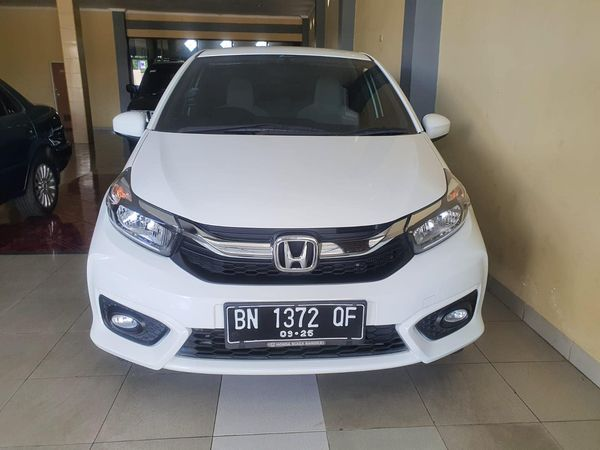plate: (224, 301, 371, 340)
